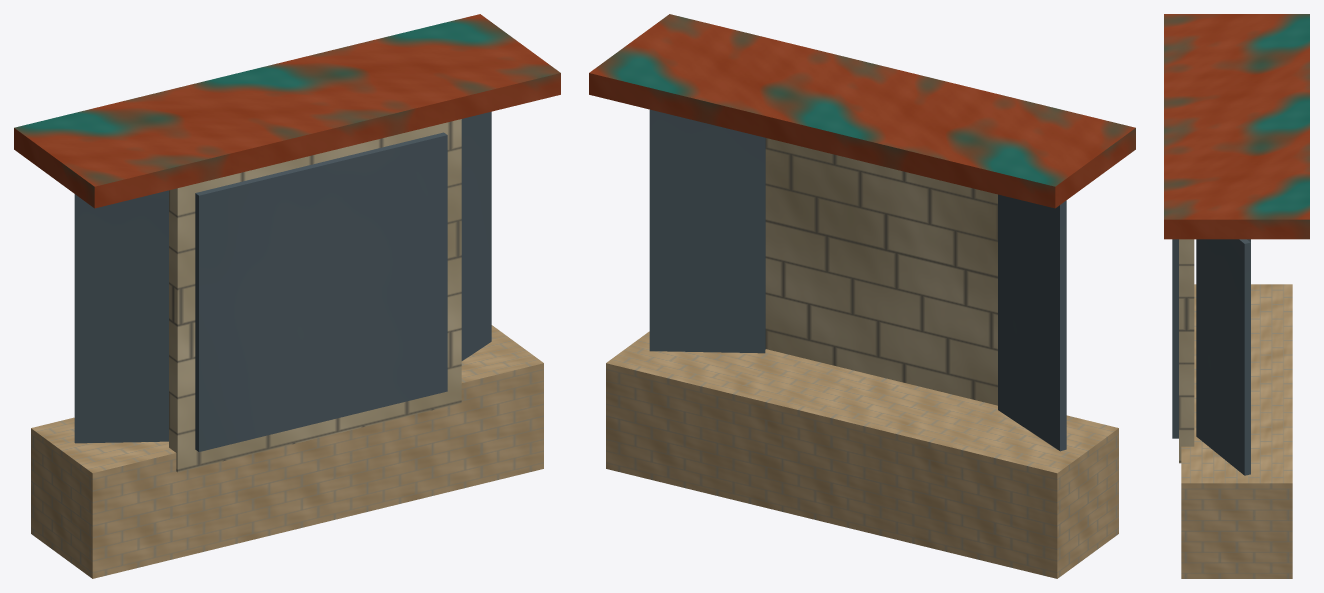
The model's file is window-bay-copper.lod2.gltf.
3 views of the same model, side by side, from view 1: azimuth 30°, elevation 25°; view 2: azimuth 150°, elevation 25°; view 3: azimuth 270°, elevation 25° (orthographic). The views are drawn at different scales.
Visible parts, largest first — view 1: window-bay-copper; view 2: window-bay-copper; view 3: window-bay-copper.
Boxes of the visible parts, <box> form: window-bay-copper: <box>14,14,560,578</box>; window-bay-copper: <box>589,14,1135,578</box>; window-bay-copper: <box>1164,14,1309,578</box>.
Size of the model in its own units: 3.14 by 2.58 by 0.94.
4 materials, 4 textured.
